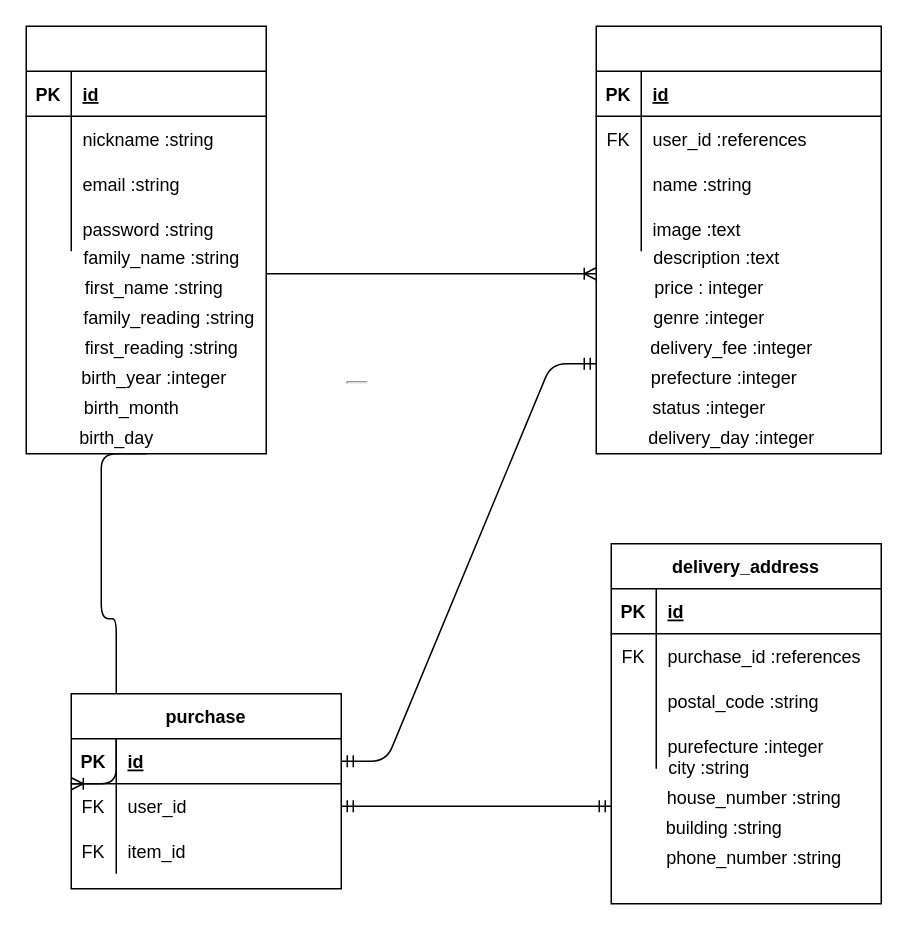
This 908x930 diagram has some shape labels left out. Each missing label, with the box of its shape:
items: (595, 25, 881, 454)
users: (25, 25, 266, 454)
